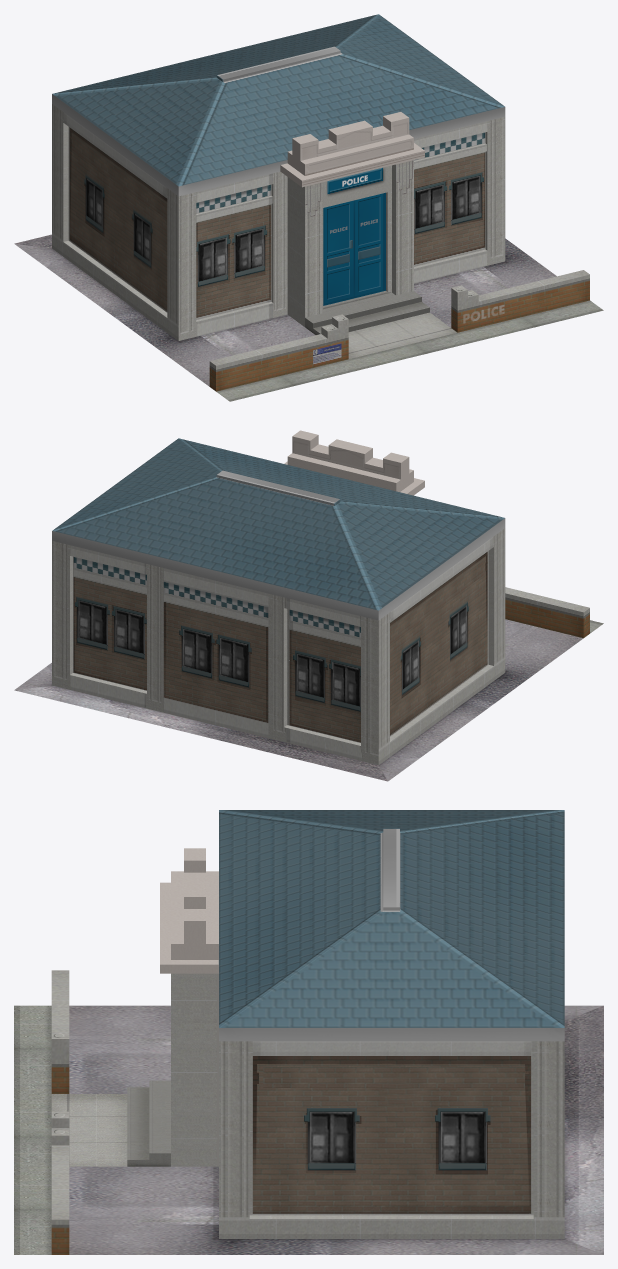
Rendered from Police Station.fbx.
3 renders of one model, top to bottom at view 1: azimuth 30°, elevation 25°; view 2: azimuth 150°, elevation 25°; view 3: azimuth 270°, elevation 25°, orthographic. The views are drawn at different scales.
Parts seen in each view (by area): view 1: police_station; view 2: police_station; view 3: police_station.
Part boxes in pixels (<box>): police_station: <box>14,14,603,401</box>; police_station: <box>14,430,603,781</box>; police_station: <box>14,810,603,1254</box>.
Bounding box in the file's own units: 10 × 4.9 × 10.
Materials: 1 (1 with a texture image).
